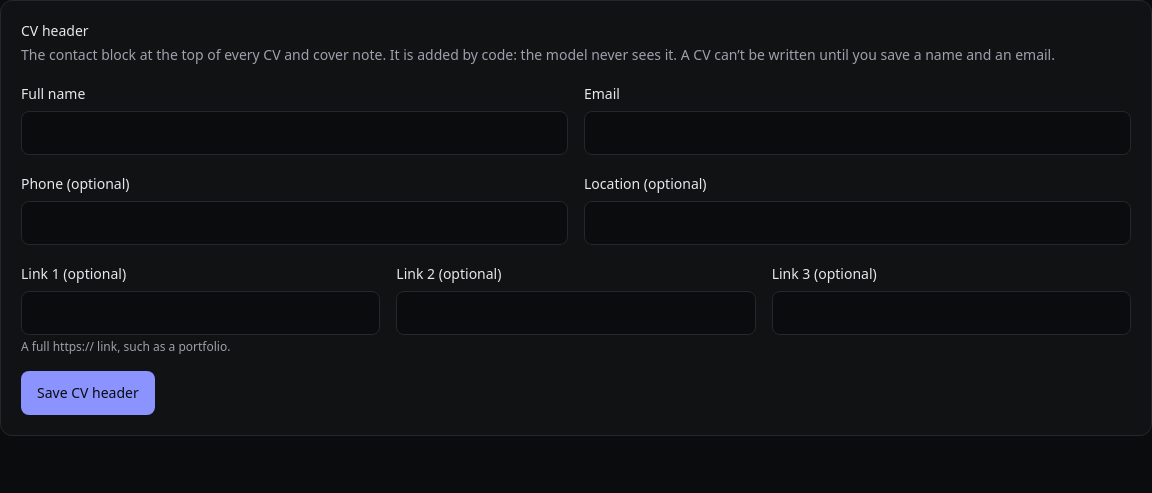
Test: CvHeaderCard › validates with the shared schema before writing, and shows each error on its field
Type "not-an-email" into the field labelled "Email" at (858, 133), box x1=584 y1=111 x2=1131 y2=155
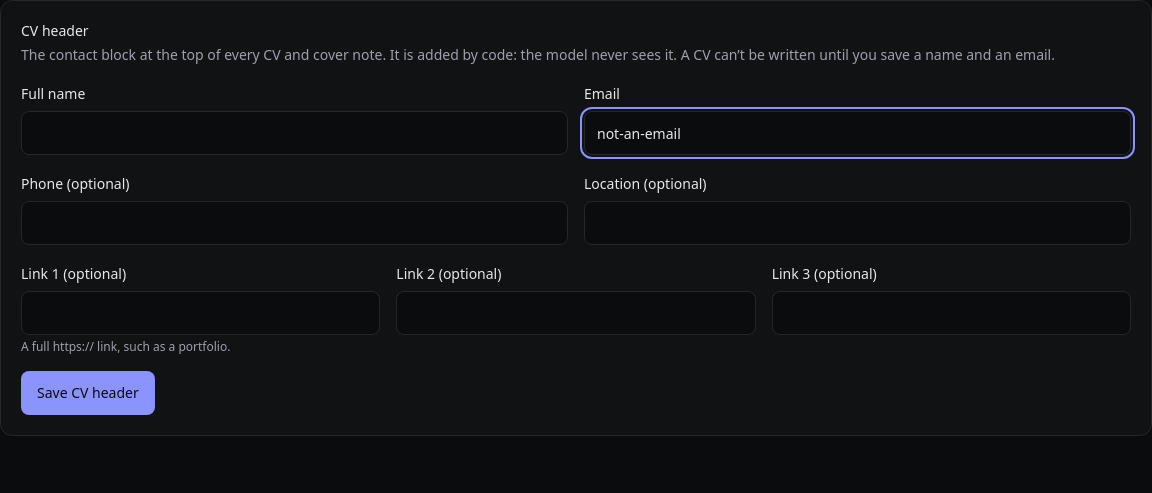
Type "http://plain.example" into the field labelled "Link 1 (optional)" at (201, 313), box x1=21 y1=291 x2=380 y2=335
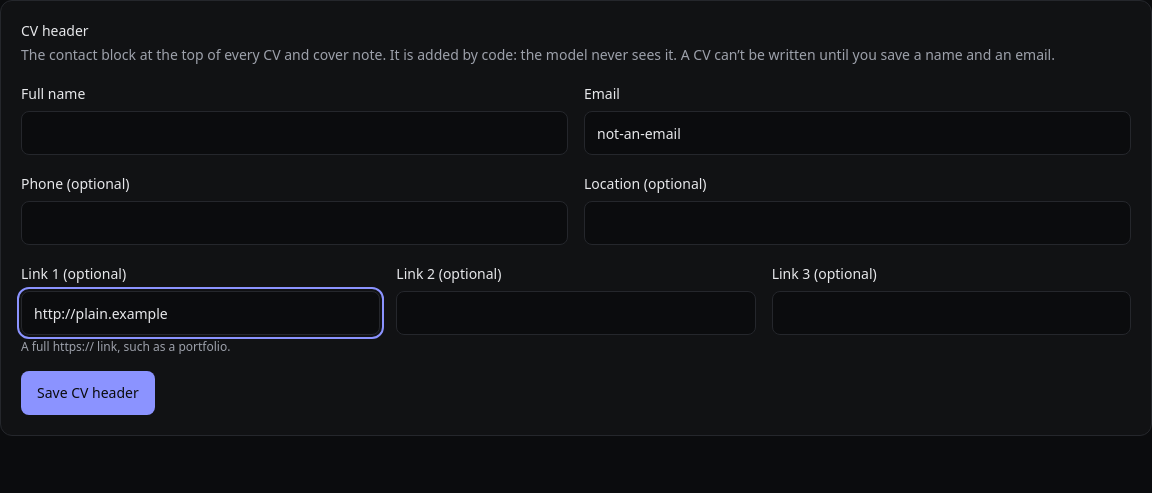
Click the button "Save CV header" at (88, 393), box x1=21 y1=371 x2=155 y2=415
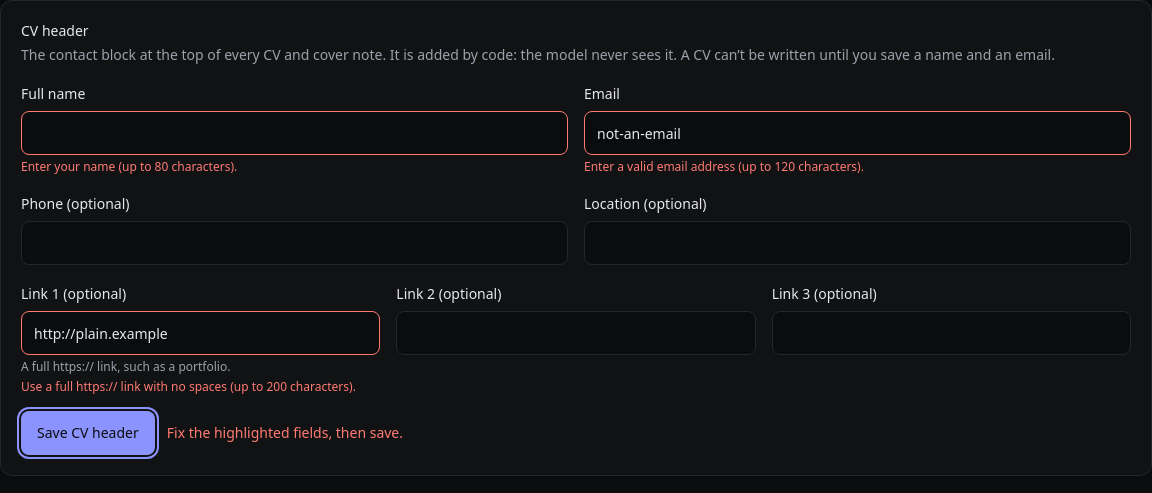
Expected: the text "Enter your name (up to 80 characters)." is shown, x1=21 y1=158 x2=237 y2=175
Expected: the text "Enter a valid email address (up to 120 characters)." is shown, x1=584 y1=158 x2=864 y2=175
Expected: the text "Use a full https:// link" is shown, x1=21 y1=378 x2=356 y2=395
